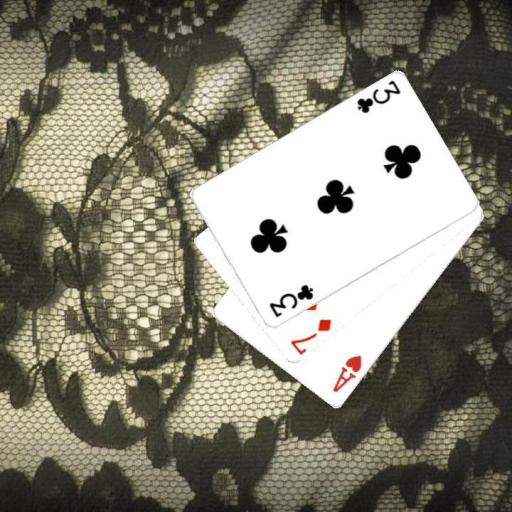3C: (354, 77, 403, 116), (265, 282, 315, 319)
7D: (287, 316, 334, 356)
AH: (330, 352, 364, 395)
